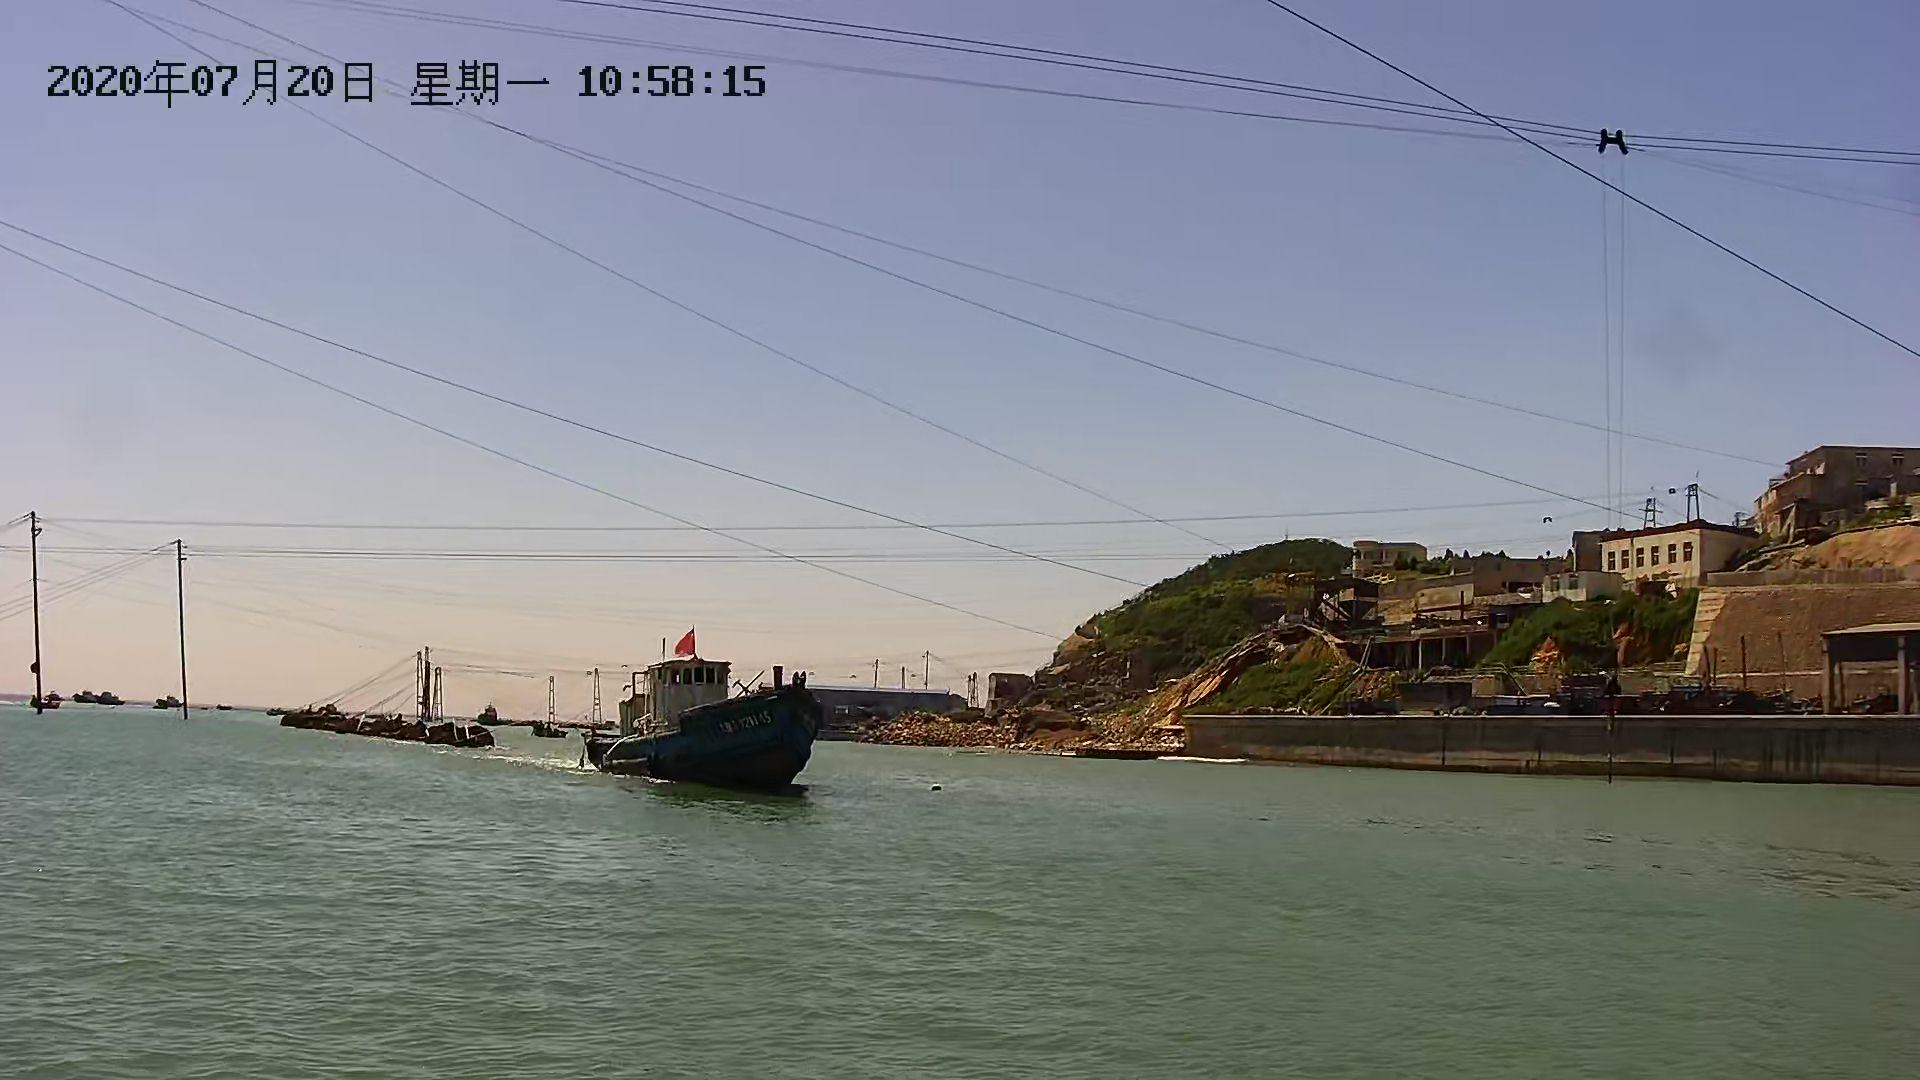mast: (25, 513, 54, 716), (171, 531, 193, 725)
rubbish: (281, 707, 500, 753)
ship: (578, 647, 823, 798)
